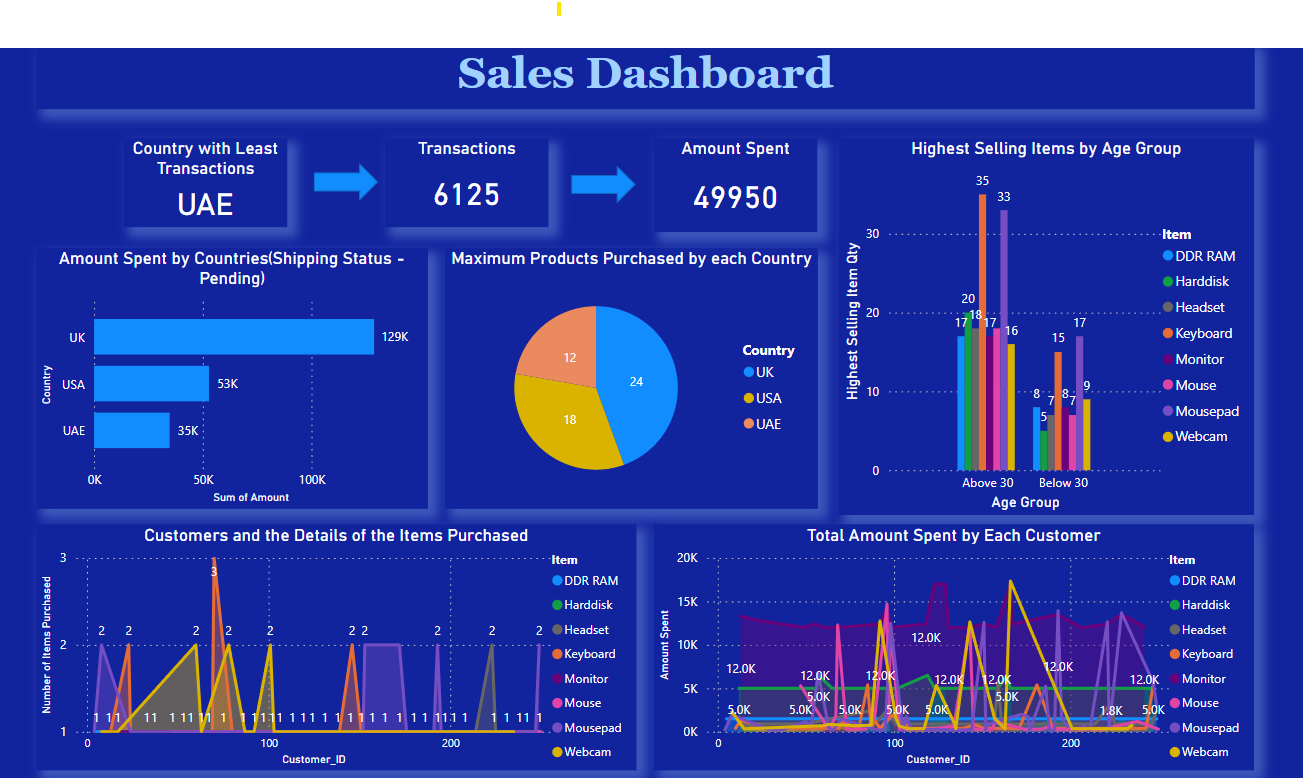

This screenshot's page, from the dashboard's own definition file:
{"tool":"powerbi","page":{"name":"1","canvas":[1280,720],"ordinal":0},"visuals":[{"type":"clusteredBarChart","title":"Amount Spent by Countries(Shipping Status - Pending)","fields":{"Category":["Customers.Country"],"Y":["Sum(Order.Amount)"]},"box":[40,200,383,255],"z":0},{"type":"pieChart","title":"Maximum Products Purchased by each Country","fields":{"Category":["Customers.Country"],"Y":["Order.Highest Selling Item Qty"]},"box":[440,200,365,255],"z":1000},{"type":"card","title":"Transactions","fields":{"Values":["Order.Transactions"]},"box":[382,93,160,87],"z":2000},{"type":"card","title":"Country with Least Transactions","fields":{"Values":["Min(Customers.Country)"]},"box":[126,93,160,87],"z":3000},{"type":"card","title":"Amount Spent ","fields":{"Values":["Sum(Order.Amount)"]},"box":[645,93,160,92],"z":4000},{"type":"textbox","box":[40,0,1192,65],"z":5000},{"type":"clusteredColumnChart","title":"Highest Selling Items by Age Group","fields":{"Category":["Customers.Age Group"],"Y":["Order.Highest Selling Item Qty"],"Series":["Order.Item"]},"box":[826,93,406,369],"z":6000},{"type":"areaChart","title":"Customers and the Details of the Items Purchased","fields":{"Category":["Order.Customer_ID"],"Y":["CountNonNull(Order.Item)"],"Series":["Order.Item"]},"box":[40,471,587,241],"z":7000},{"type":"stackedAreaChart","title":"Total Amount Spent by Each Customer","fields":{"Category":["Order.Customer_ID"],"Series":["Order.Item"],"Y":["Sum(Order.Amount)"]},"box":[645,471,587,241],"z":8000},{"type":"shape","box":[312,118,63,37],"z":9000},{"type":"shape","box":[564,120,63,37],"z":10000}]}

Visuals, with their boxes on the page's 1280x720 design canvas (x1, y1, x2, y2). These are canvas units, not pixel positions in the 1303x778 screenshot, which may show the page scaled, cropped or inside an application window:
"Amount Spent by Countries(Shipping Status - Pending)" clusteredBarChart: detection(40, 200, 423, 455)
"Maximum Products Purchased by each Country" pieChart: detection(440, 200, 805, 455)
"Transactions" card: detection(382, 93, 542, 180)
"Country with Least Transactions" card: detection(126, 93, 286, 180)
"Amount Spent " card: detection(645, 93, 805, 185)
textbox: detection(40, 0, 1232, 65)
"Highest Selling Items by Age Group" clusteredColumnChart: detection(826, 93, 1232, 462)
"Customers and the Details of the Items Purchased" areaChart: detection(40, 471, 627, 712)
"Total Amount Spent by Each Customer" stackedAreaChart: detection(645, 471, 1232, 712)
shape: detection(312, 118, 375, 155)
shape: detection(564, 120, 627, 157)
